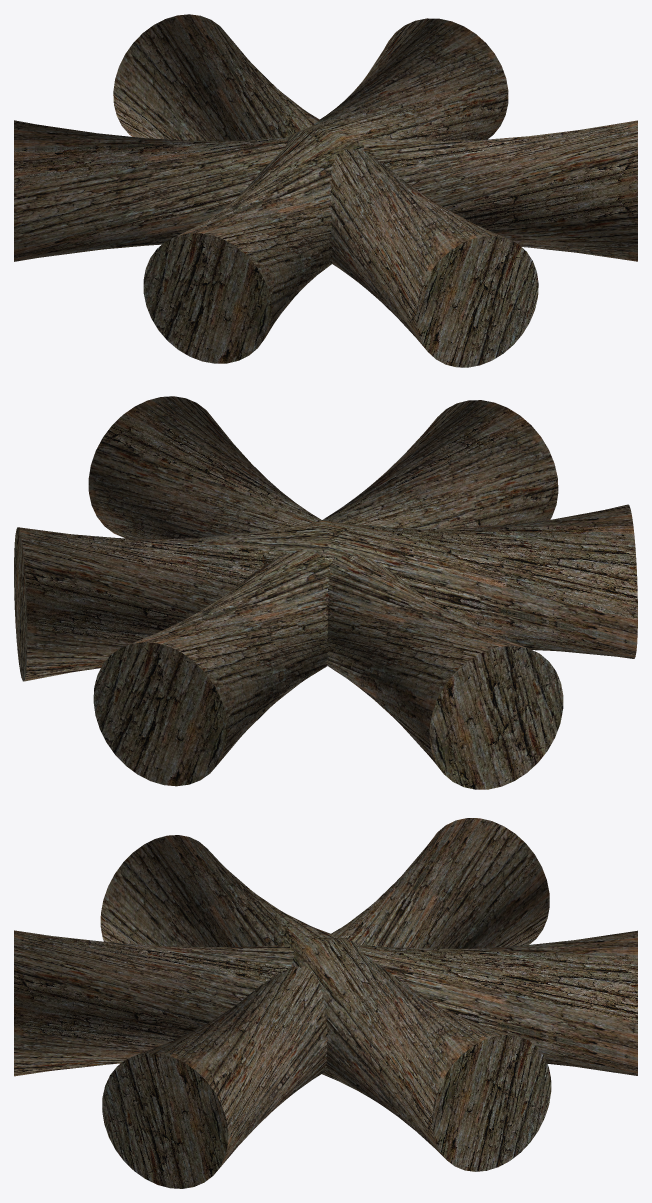
File: fireplace.gltf
The picture shows the model from 3 angles, top to bottom: view 1: azimuth 30°, elevation 25°; view 2: azimuth 150°, elevation 25°; view 3: azimuth 270°, elevation 25°; orthographic projection. The views are drawn at different scales.
Parts seen in each view (by area): view 1: Cylinder.002_Cylinder.008, Cylinder, Cylinder.001_Cylinder.007; view 2: Cylinder.001_Cylinder.007, Cylinder.002_Cylinder.008, Cylinder; view 3: Cylinder, Cylinder.002_Cylinder.008, Cylinder.001_Cylinder.007.
Boxes of the visible parts, left/top/right/bottom form: Cylinder.002_Cylinder.008: left=14, top=120, right=637, bottom=261; Cylinder: left=113, top=14, right=538, bottom=367; Cylinder.001_Cylinder.007: left=143, top=18, right=508, bottom=363; Cylinder.001_Cylinder.007: left=14, top=504, right=637, bottom=681; Cylinder.002_Cylinder.008: left=88, top=396, right=563, bottom=789; Cylinder: left=93, top=400, right=558, bottom=786; Cylinder: left=14, top=930, right=637, bottom=1076; Cylinder.002_Cylinder.008: left=102, top=818, right=549, bottom=1188; Cylinder.001_Cylinder.007: left=100, top=835, right=551, bottom=1171.
Size of what is drawn, in the model's own units: 24.31 by 5.63 by 24.09.
1 material, 1 textured.
